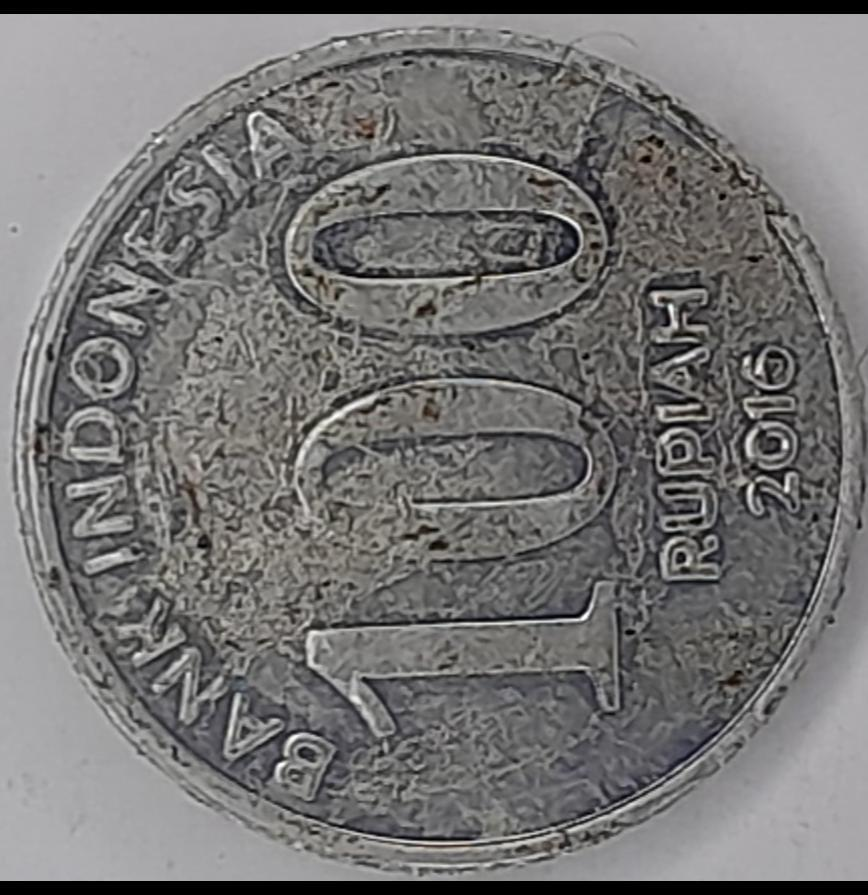coin_100_e2016: (7, 20, 867, 876)
